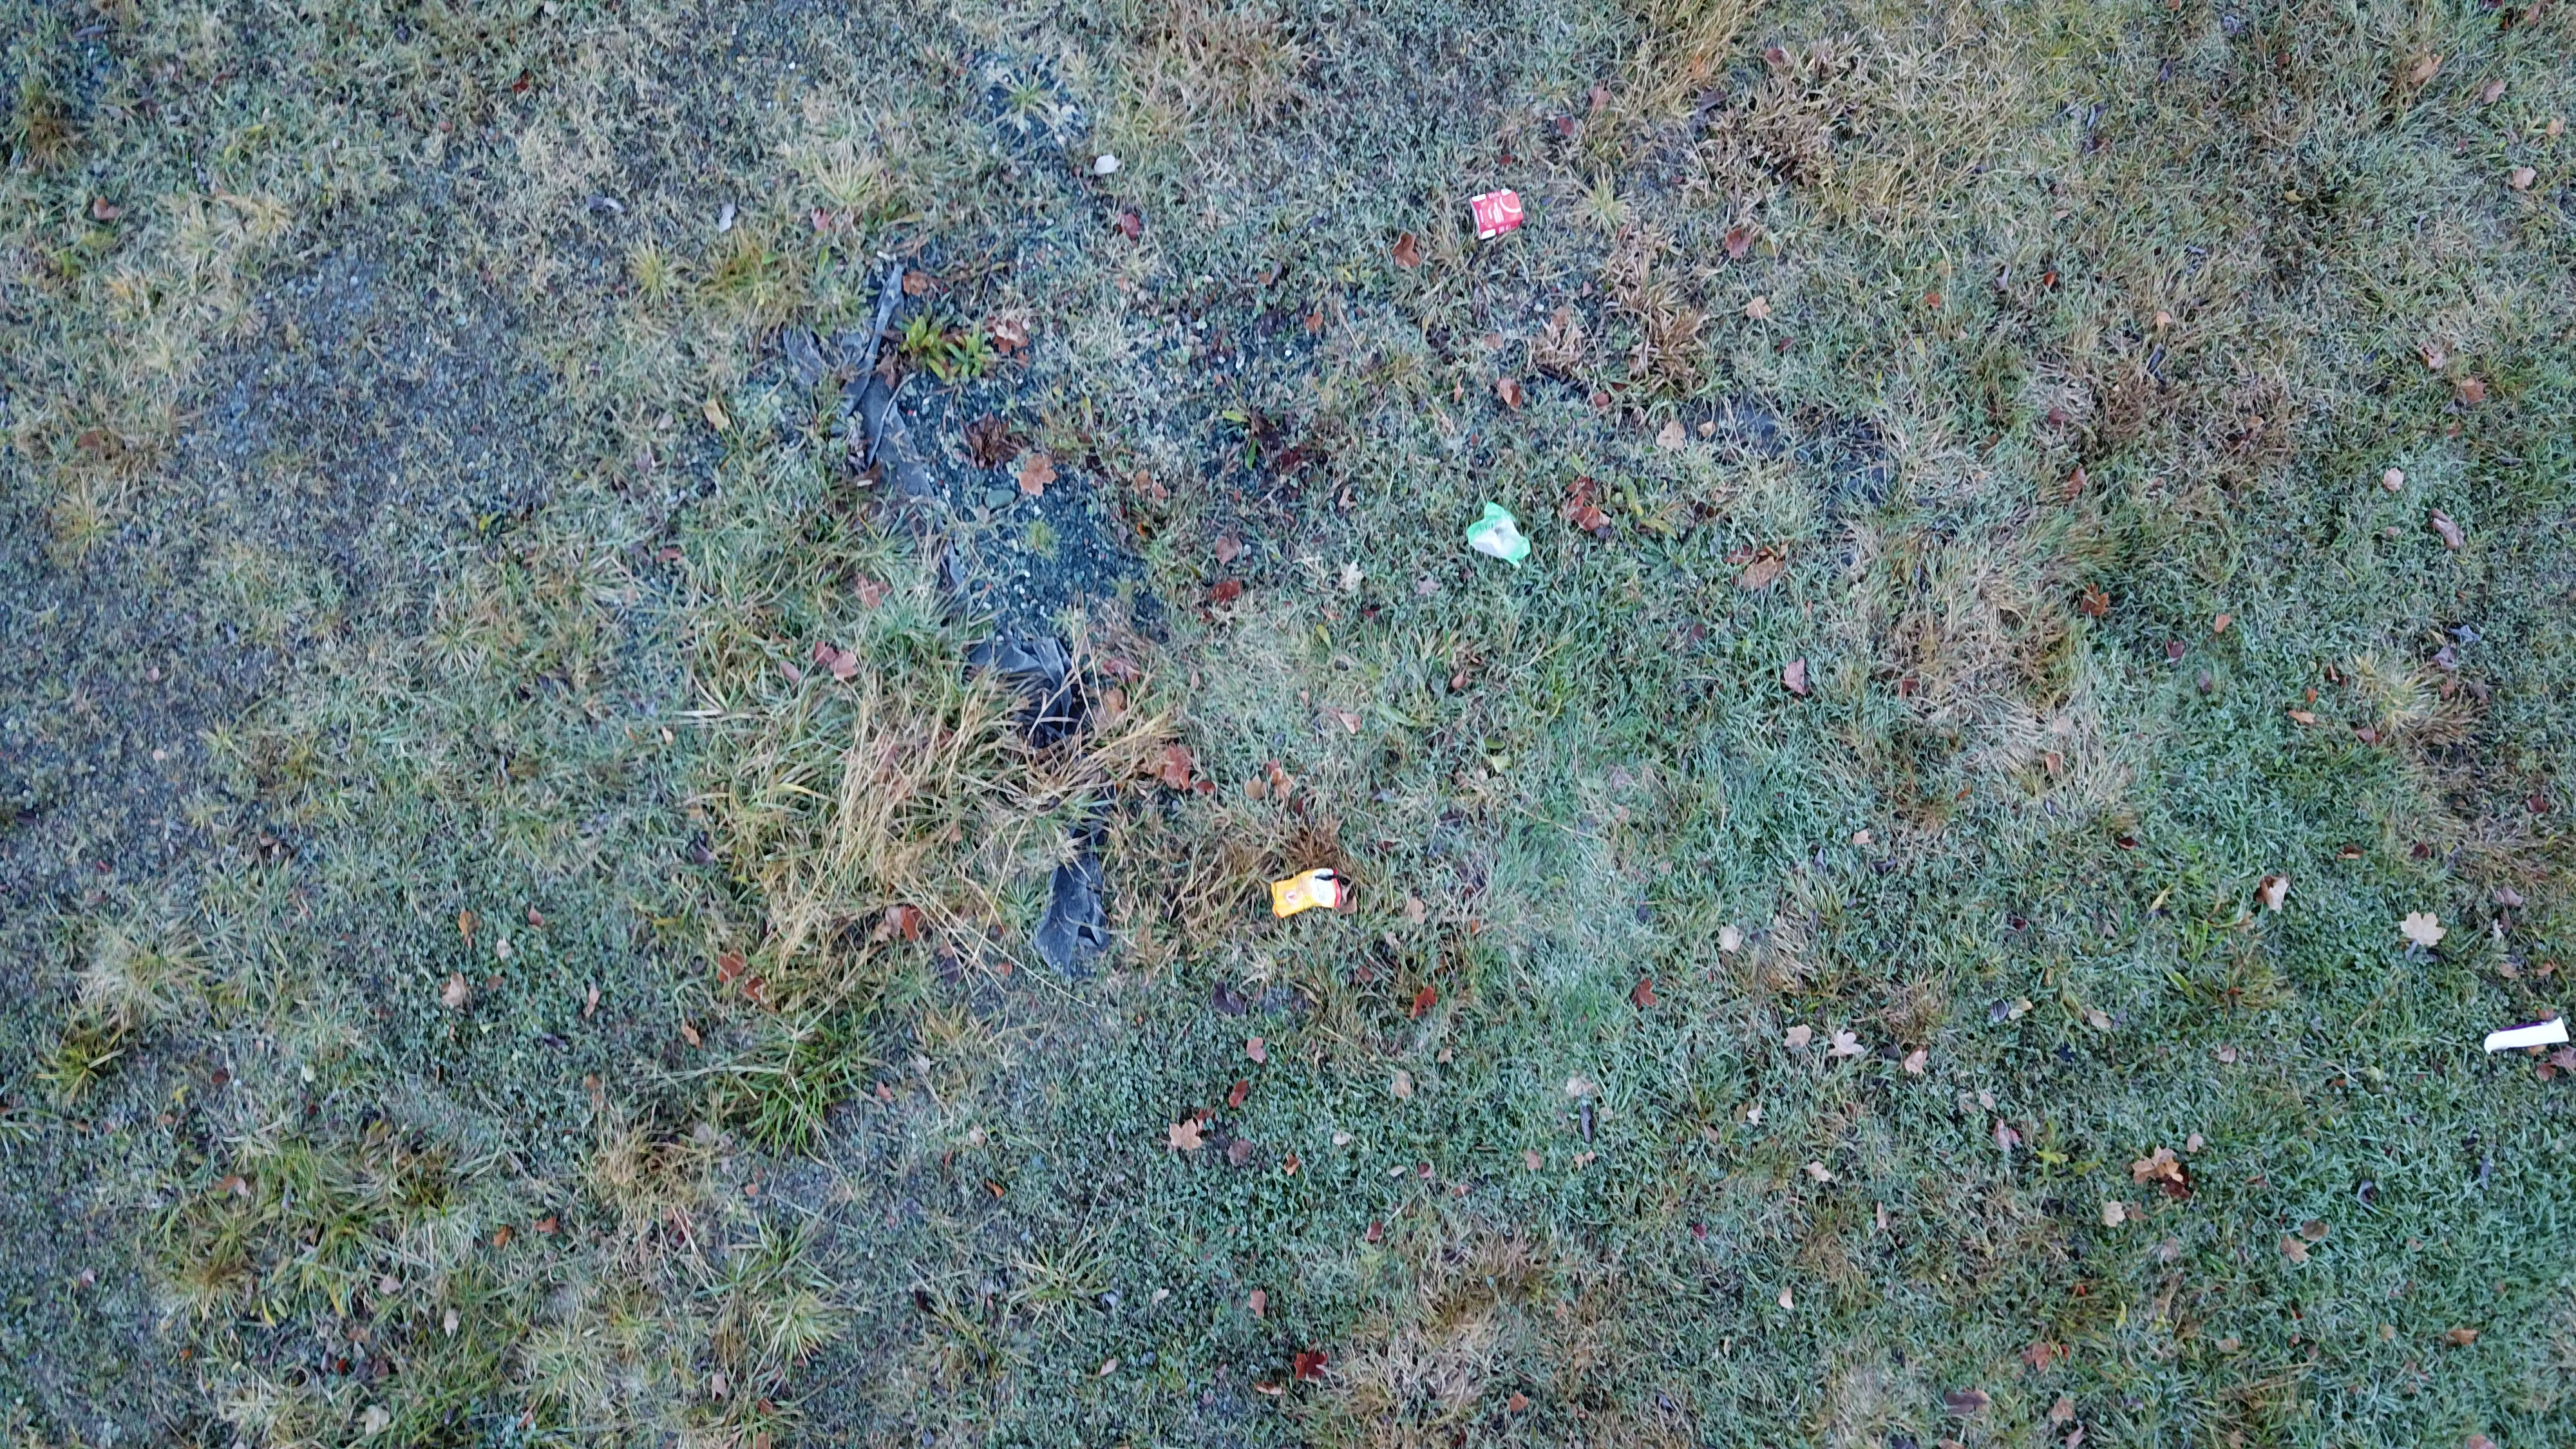Plastic: (1461, 499, 1537, 570), (2472, 1014, 2571, 1058), (1267, 867, 1350, 918), (1467, 184, 1527, 242)
